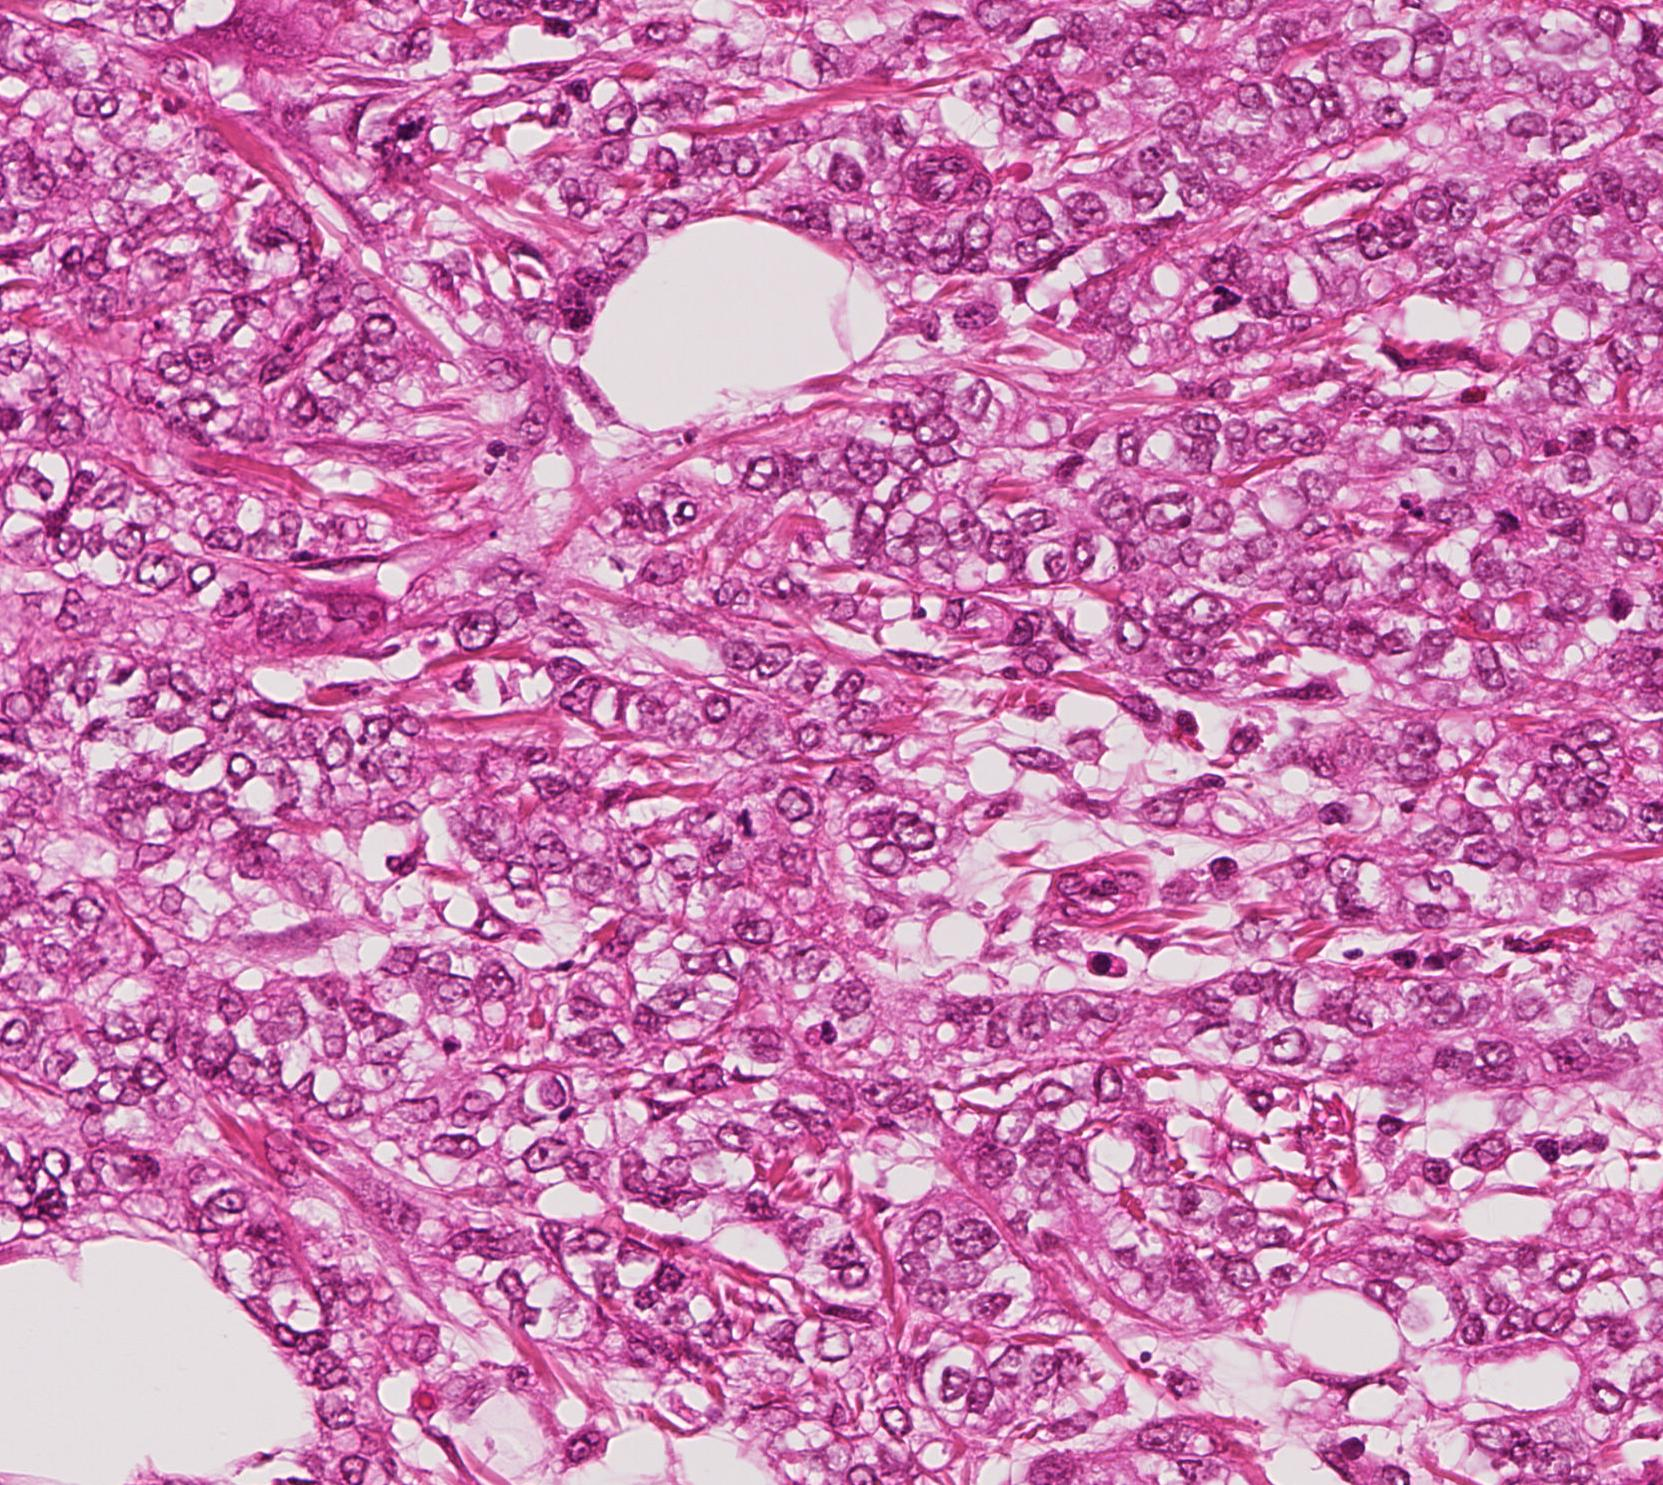mitosis: (710, 784, 770, 844)
